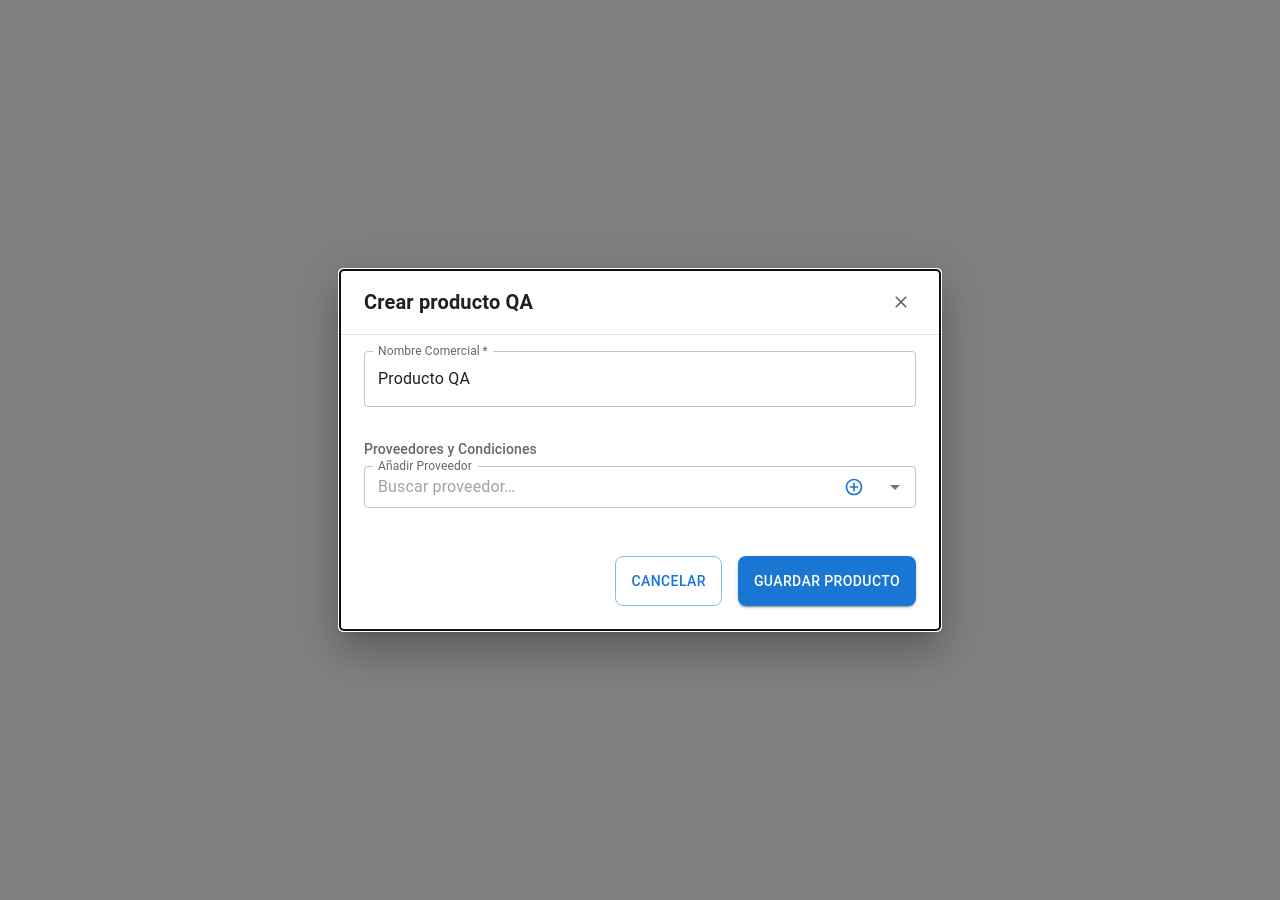
Test: DynamicFormModal - submit anidado y confirmación › permite cancelar la confirmación sin enviar el formulario principal
Click the button "Guardar Producto". click: (827, 581)
box: left=738, top=556, right=916, bottom=606
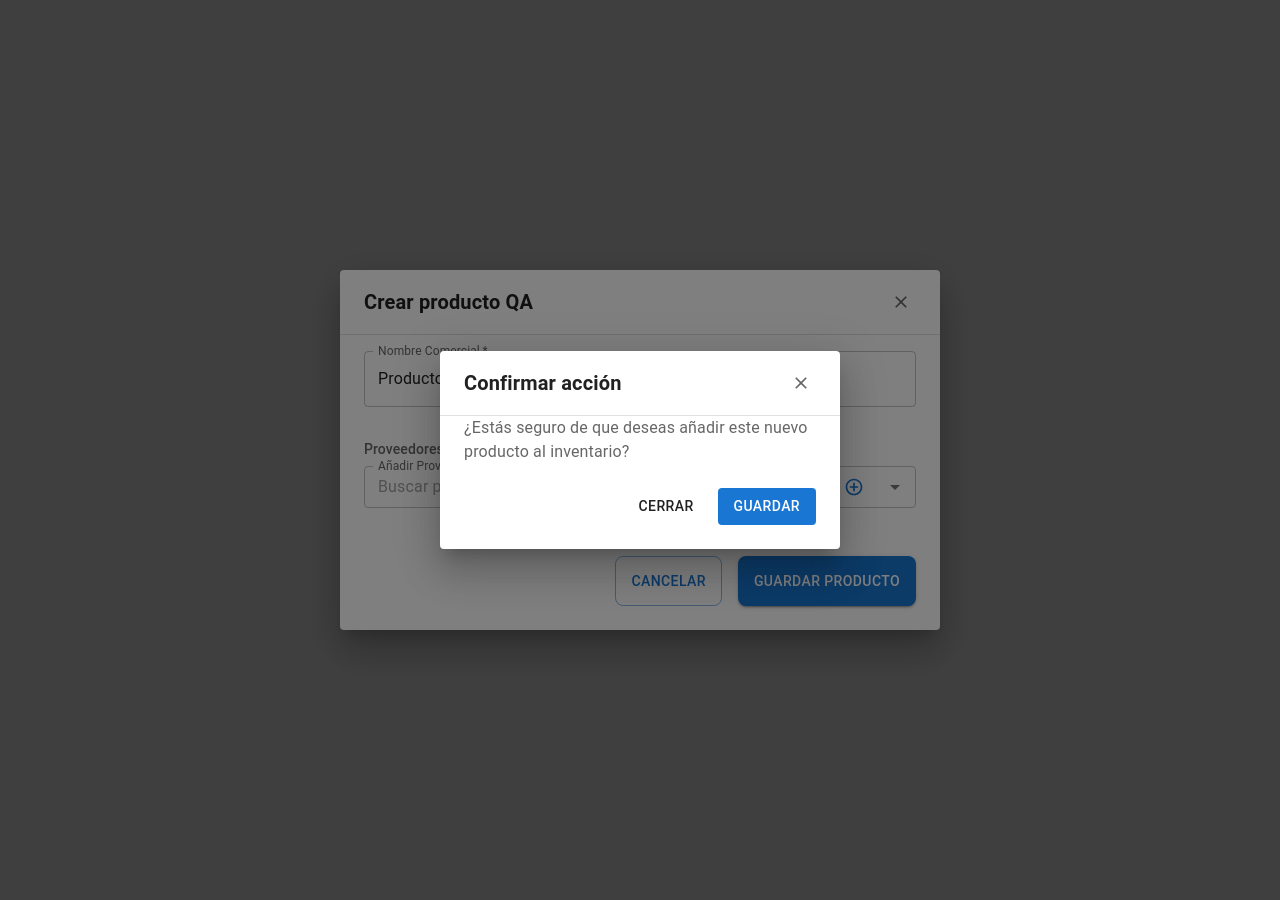
Expected: the text "¿Estás seguro de que deseas añadir este nuevo producto al inventario?" is shown, left=464, top=416, right=816, bottom=464
Click the button "Cerrar". click: (666, 507)
box: left=630, top=488, right=702, bottom=525
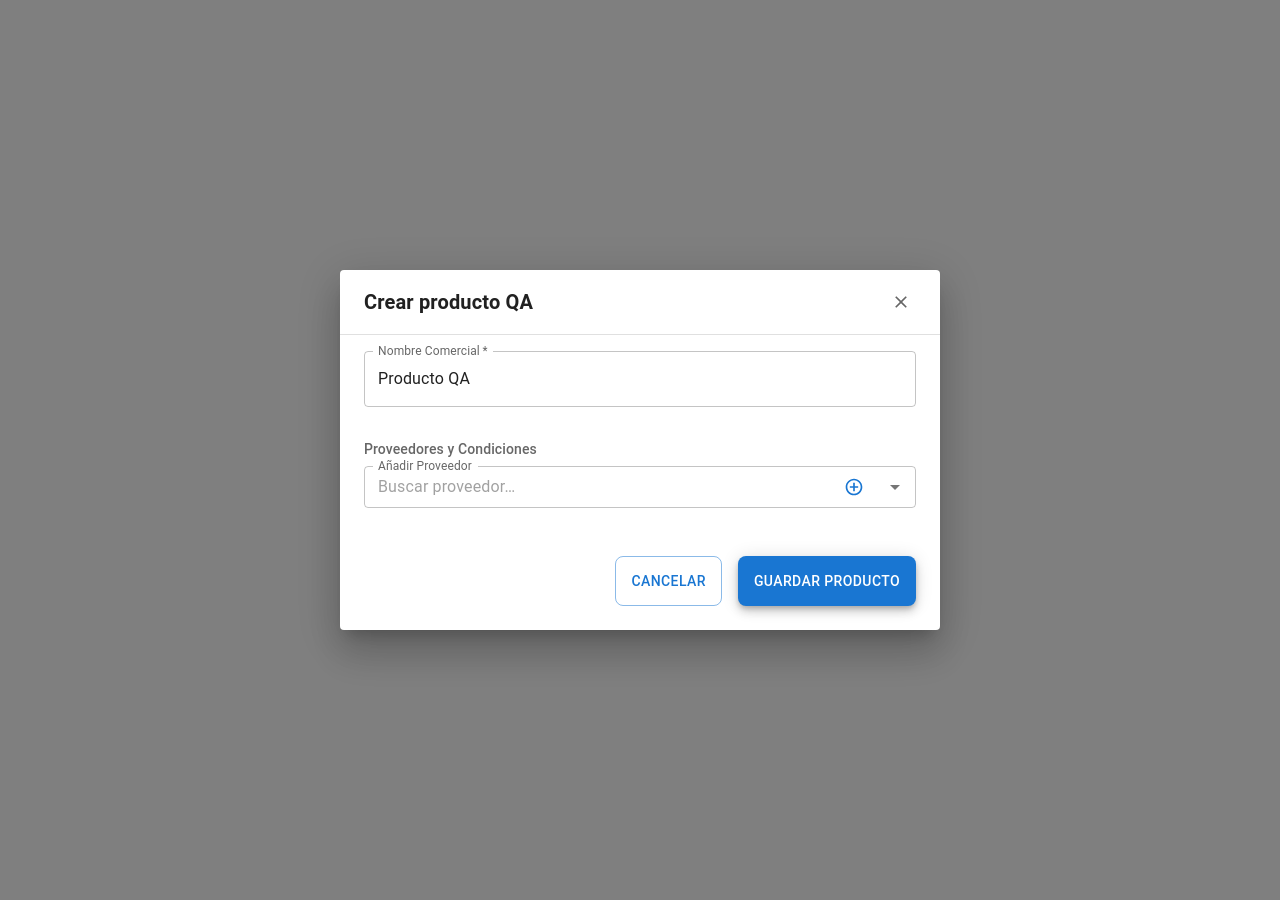
Expected: the text "¿Estás seguro de que deseas añadir este nuevo producto al inventario?" is gone
